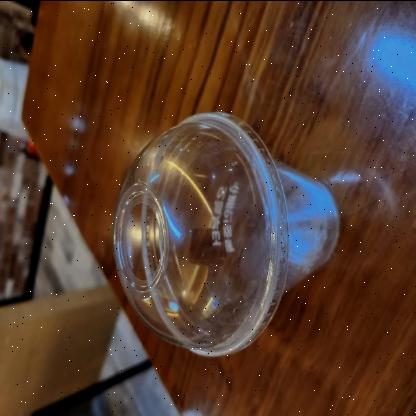Others: (110, 110, 338, 354)
